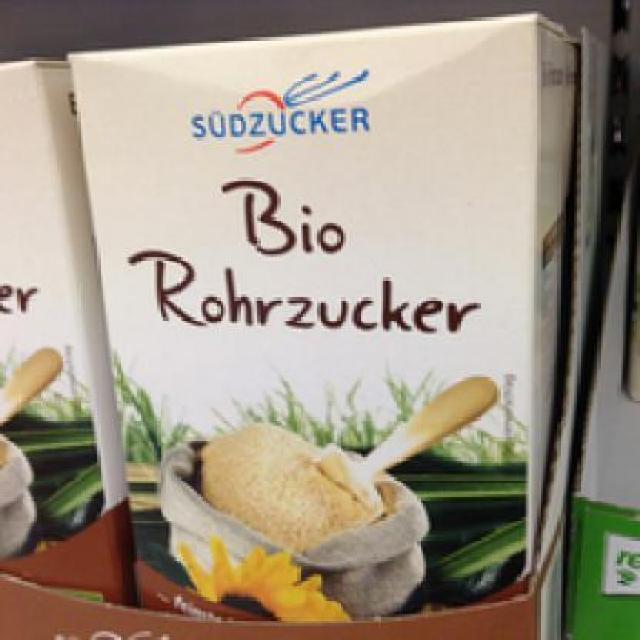Sugar: (60, 9, 560, 620), (0, 54, 126, 600)
